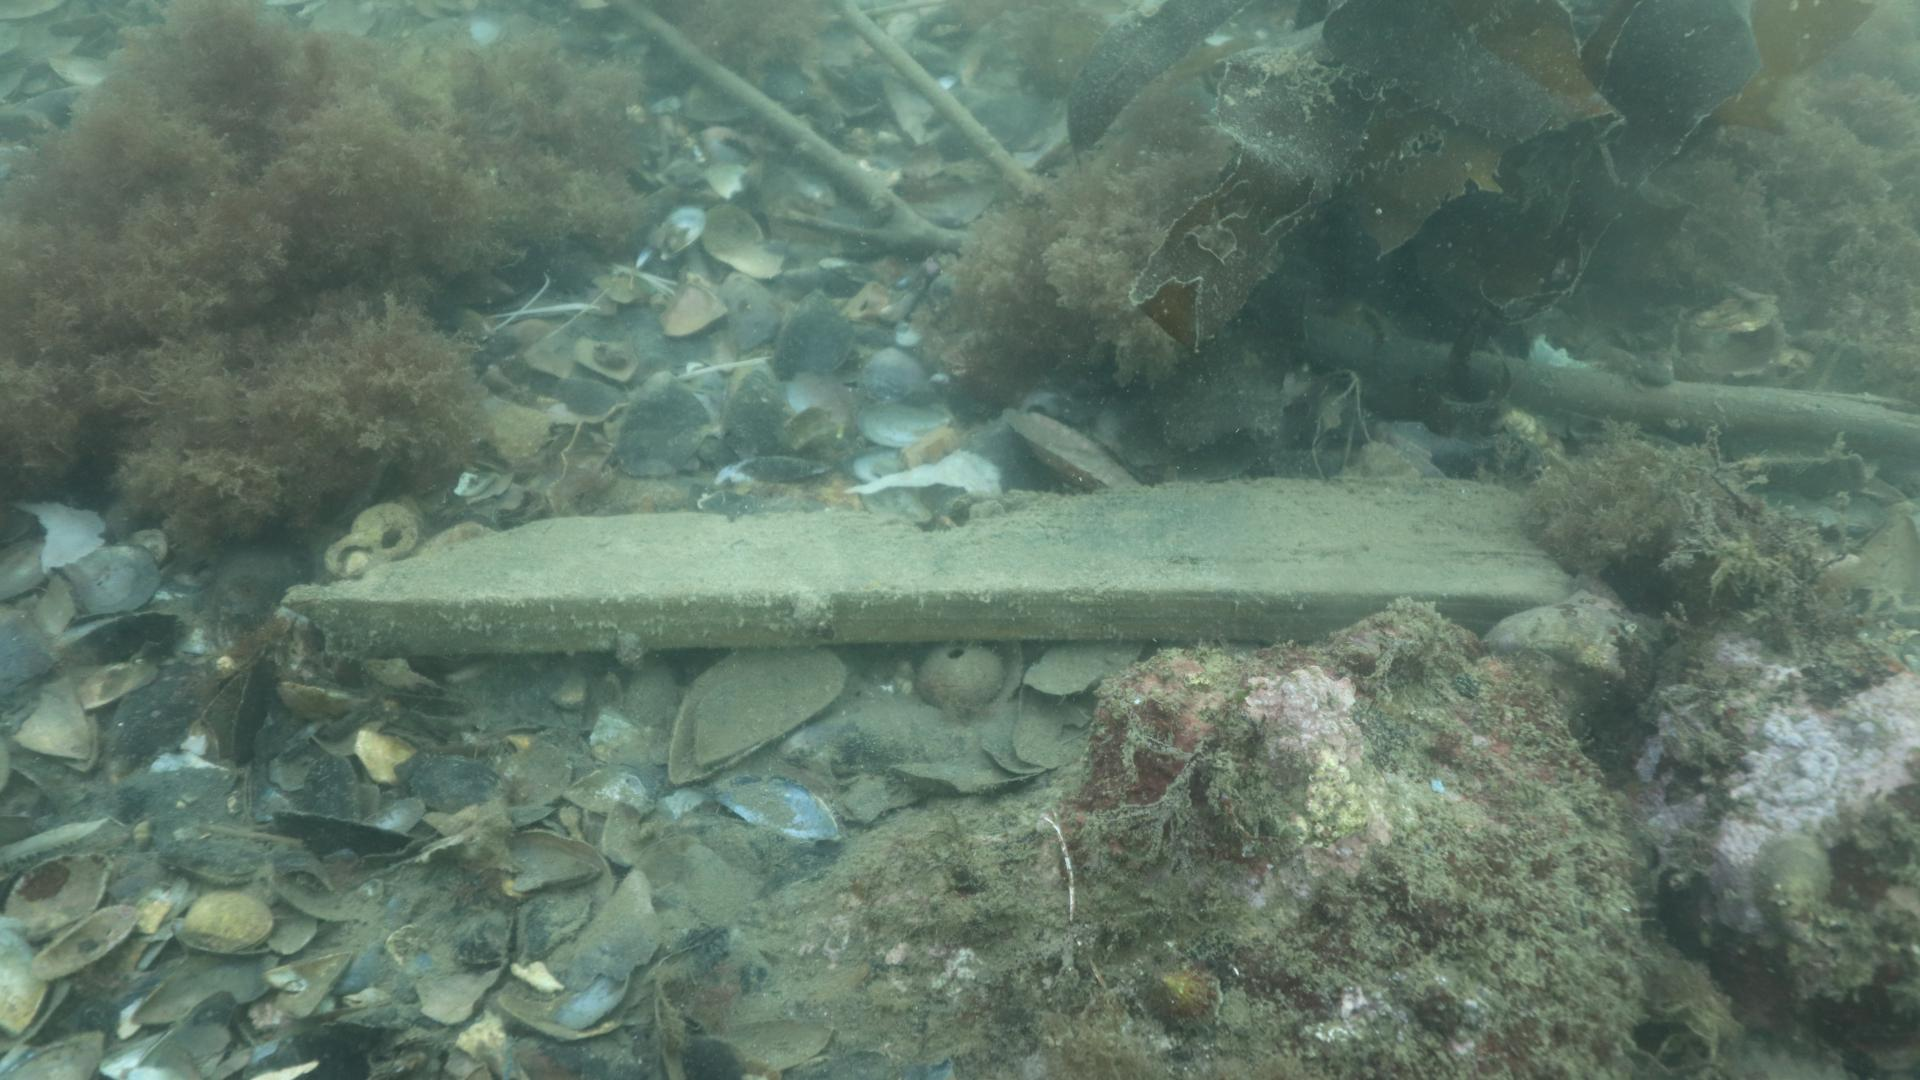wood: (284, 473, 1571, 654)
